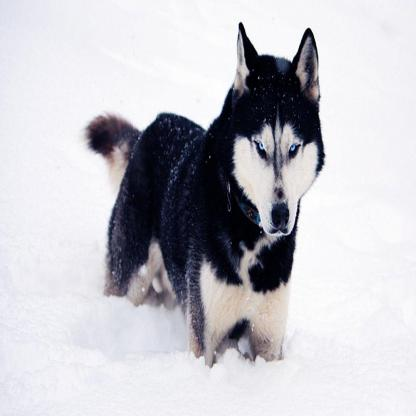husky: (82, 22, 325, 369)
